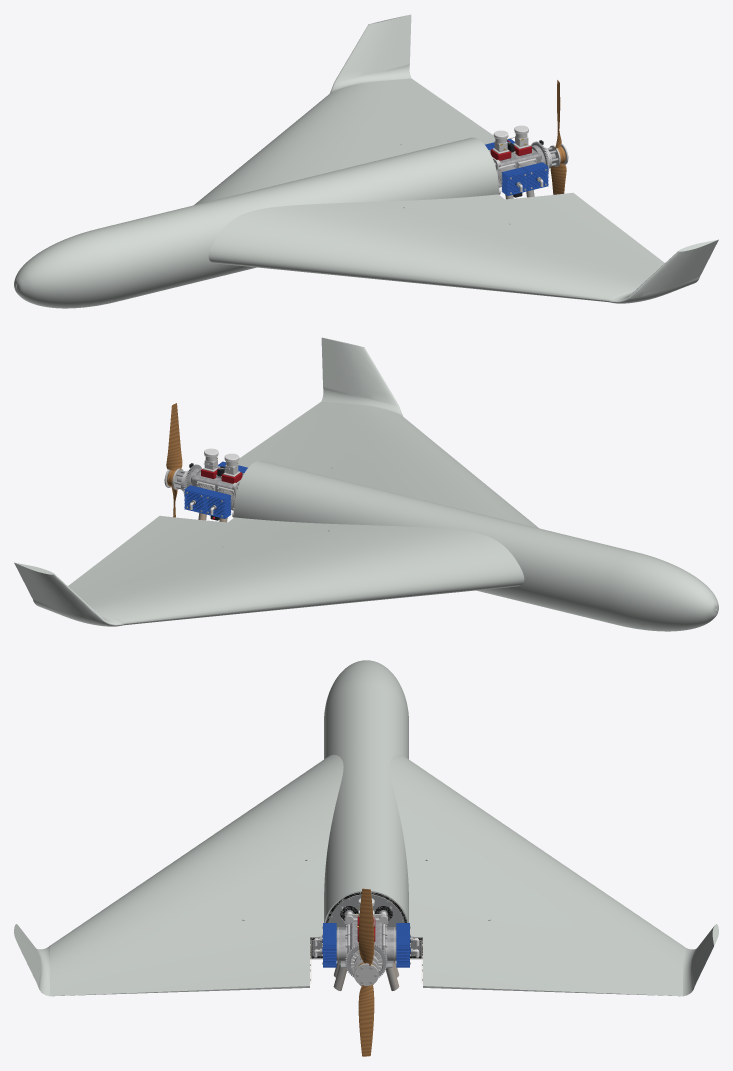
3 renders of one model, top to bottom at view 1: azimuth 30°, elevation 25°; view 2: azimuth 150°, elevation 25°; view 3: azimuth 270°, elevation 25°, orthographic. The views are drawn at different scales.
Visible parts, largest first — view 1: OML_REF, PROP, ENG_CYL_L1, ENG_CYL_L2, ENG_CRANKCASE; view 2: OML_REF, PROP, ENG_CYL_R1, ENG_CYL_R2, ENG_CRANKCASE, ENG_INTAKE_1; view 3: OML_REF, PROP, FW_FP, ENG_CRANKCASE, ENG_CYL_L2, ENG_CYL_R2, FW.
Boxes of the visible parts, x1,y1,x2,y2 form: OML_REF: (14,14,718,308); PROP: (544,80,568,194); ENG_CYL_L1: (498,166,527,195); ENG_CYL_L2: (520,161,548,190); ENG_CRANKCASE: (497,145,545,194); OML_REF: (14,337,718,631); PROP: (164,403,187,517); ENG_CYL_R1: (205,489,234,518); ENG_CYL_R2: (184,484,212,513); ENG_CRANKCASE: (187,468,235,517); ENG_INTAKE_1: (221,453,242,483); OML_REF: (14,660,718,996); PROP: (354,888,378,1056); FW_FP: (312,894,420,956); ENG_CRANKCASE: (345,915,387,967); ENG_CYL_L2: (313,934,347,967); ENG_CYL_R2: (385,934,419,967); FW: (310,892,422,958).
Size of the model in its own units: 2.94 by 0.758 by 2.89.
27 materials, 17 textured.
